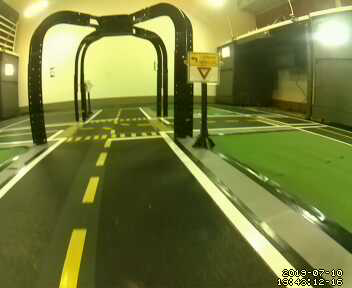Turn Yield: (187, 50, 221, 88)
